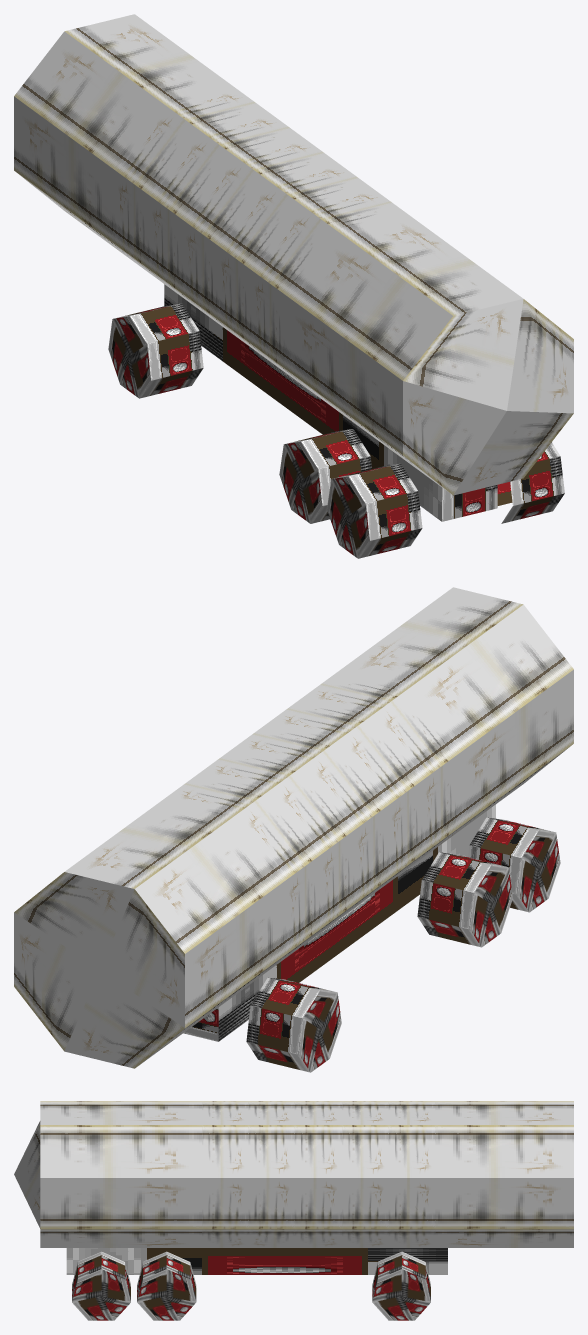
3 renders of one model, top to bottom at view 1: azimuth 30°, elevation 25°; view 2: azimuth 150°, elevation 25°; view 3: azimuth 270°, elevation 25°, orthographic. The views are drawn at different scales.
Visible parts, largest first — view 1: prim094-Cylinder33; view 2: prim094-Cylinder33; view 3: prim094-Cylinder33.
Part boxes in pixels (x1,y1,x2,y2): prim094-Cylinder33: (14, 14, 573, 558); prim094-Cylinder33: (14, 587, 573, 1072); prim094-Cylinder33: (14, 1101, 573, 1320).
Bounding box in the file's own units: 360 × 448 × 1305.
Materials: 2 (2 with a texture image).
